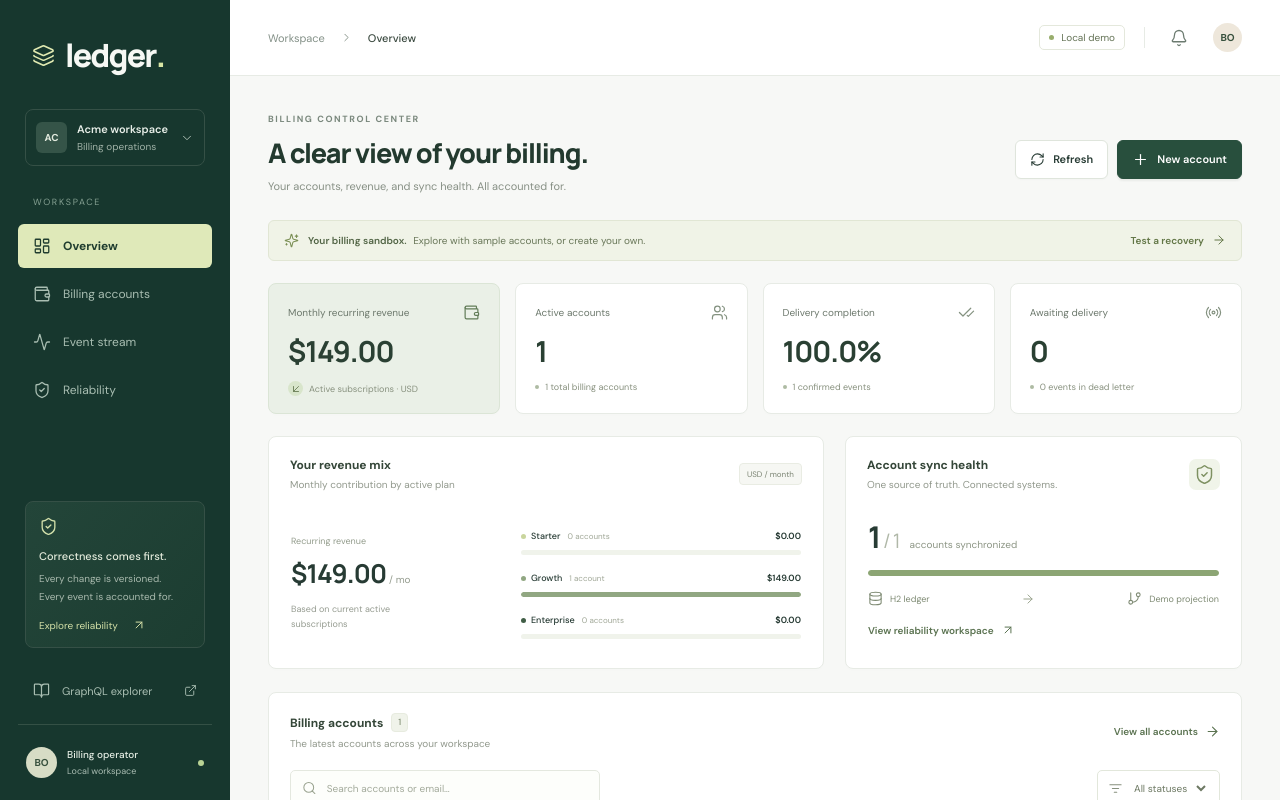
Test case: Billing workspace › creates an account with a stable idempotency key
Click the button "New account": (1180, 159) [1117,140,1242,179]
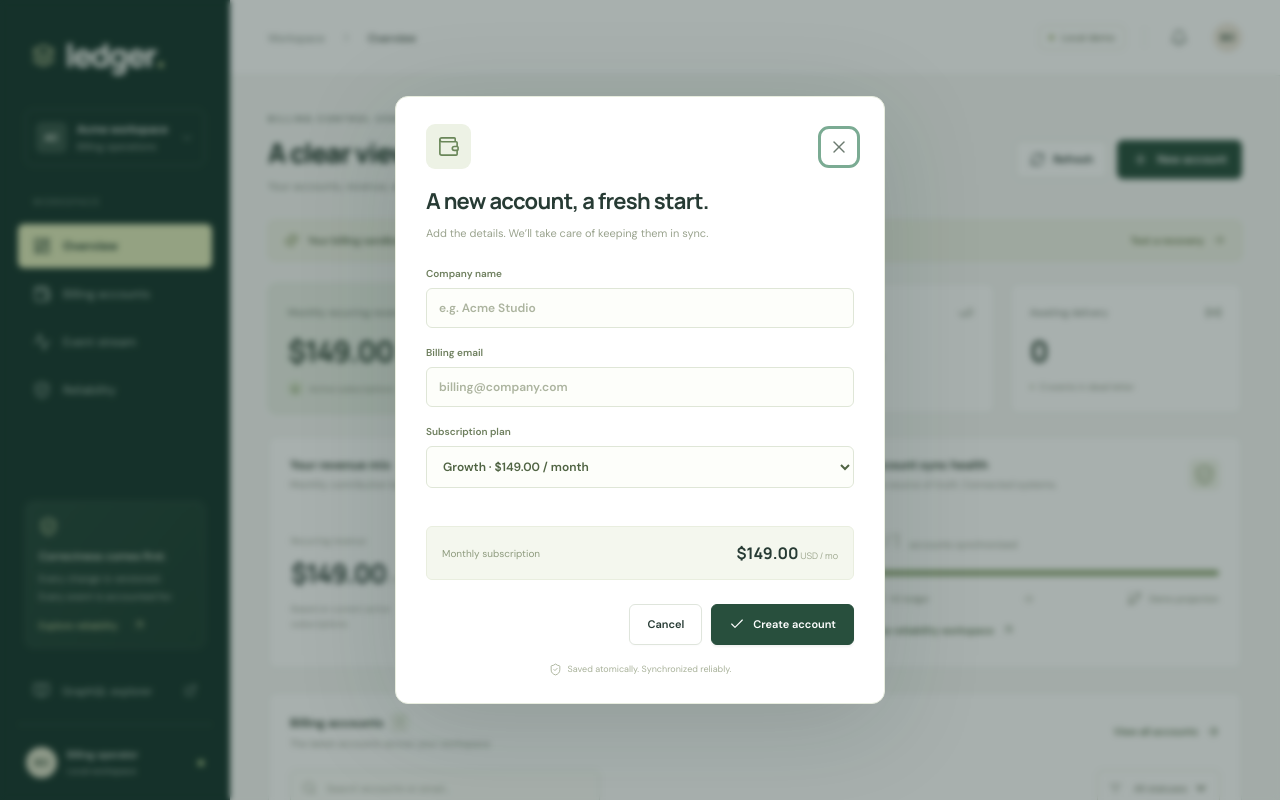
In the field labelled "Company name": (640, 308) [426,288,854,328], type "New Company"
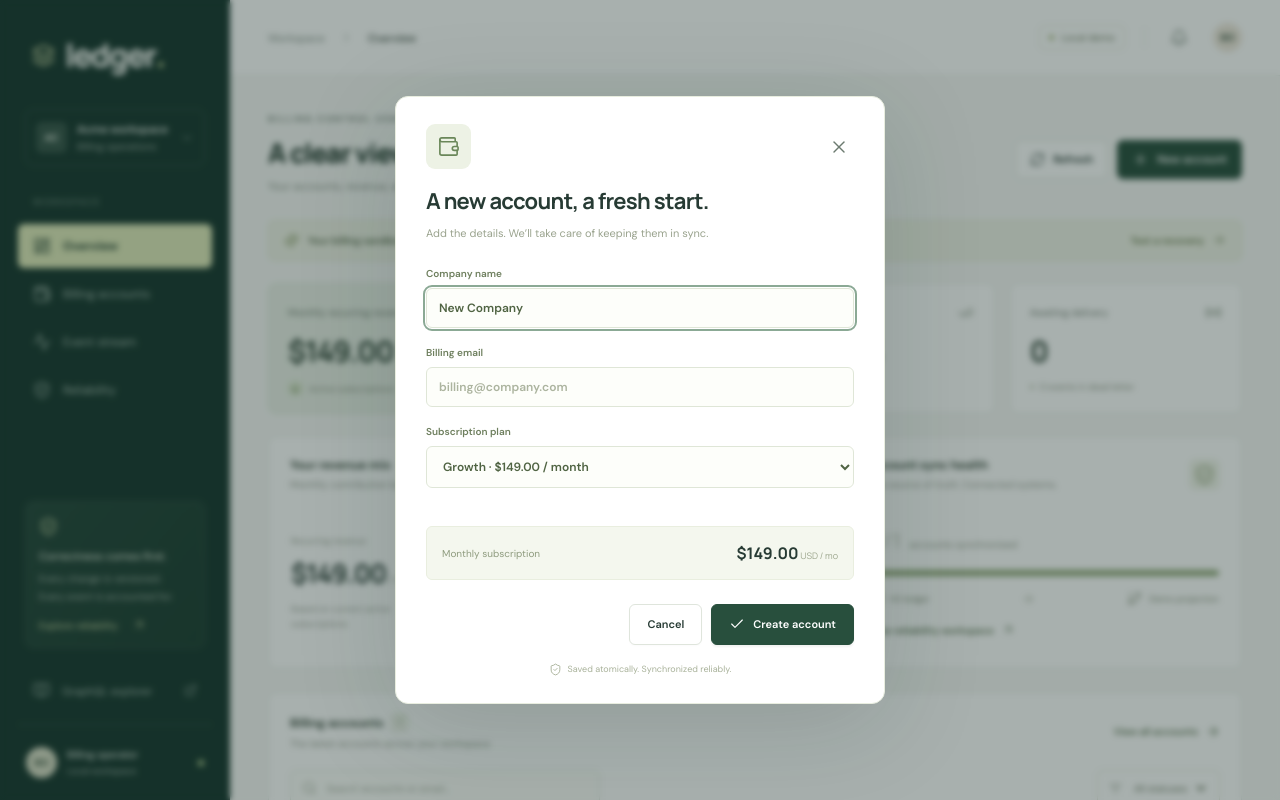
In the field labelled "Billing email": (640, 387) [426,367,854,407], type "finance@new.example"
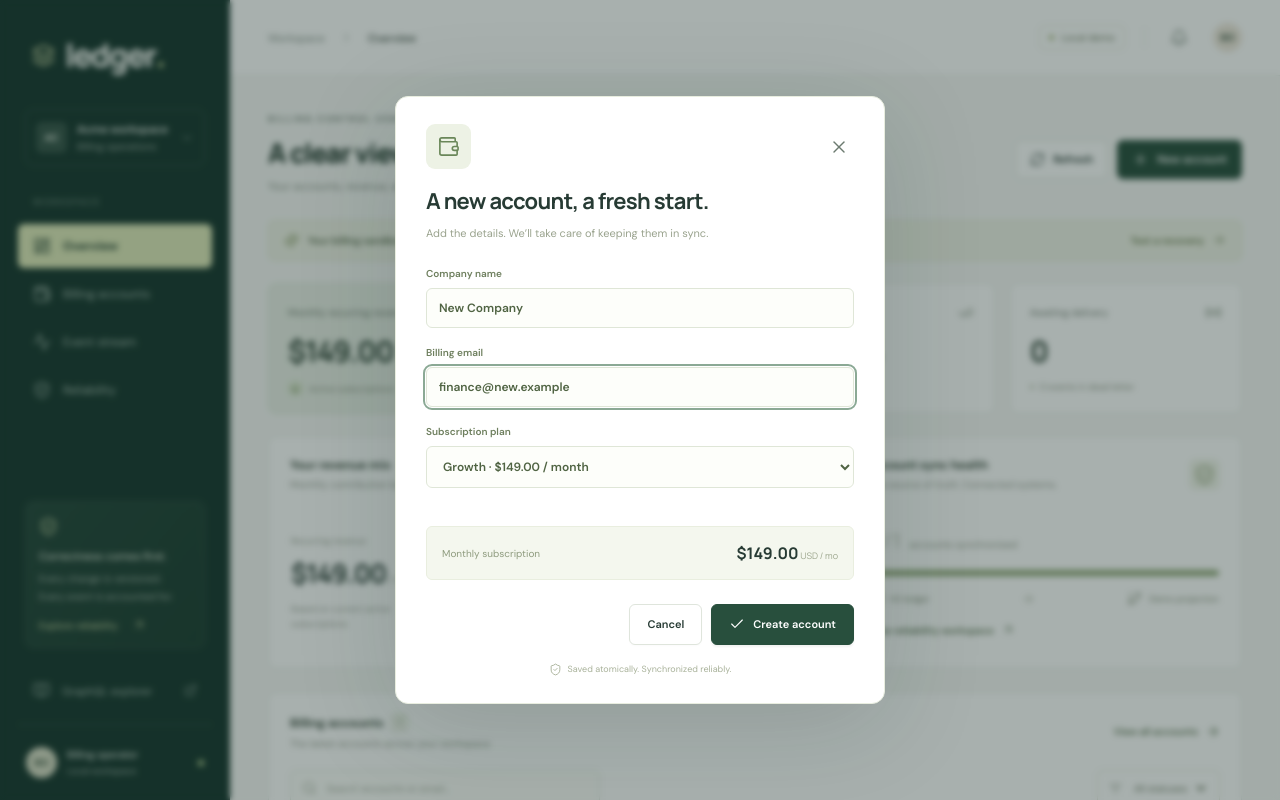
Click the button "Create account": (783, 624) [711,604,854,645]
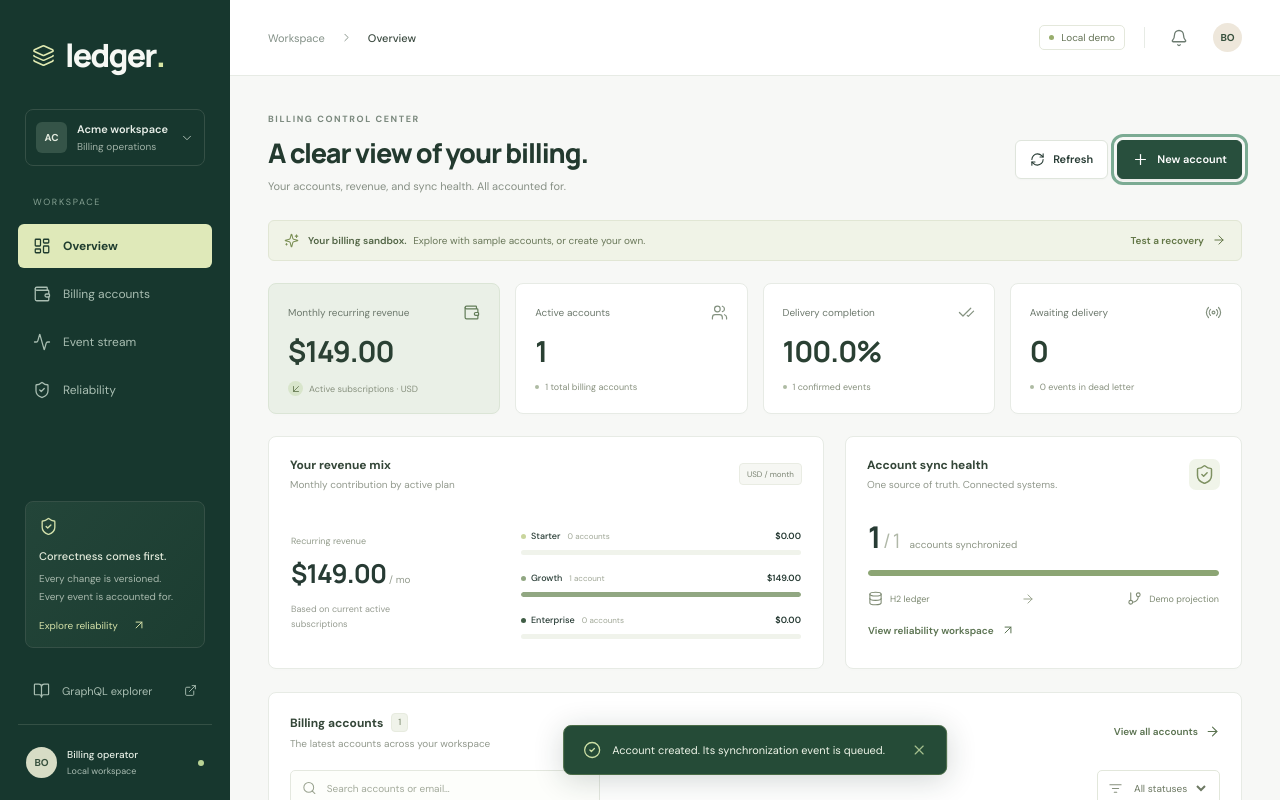
Now the dialog is gone
